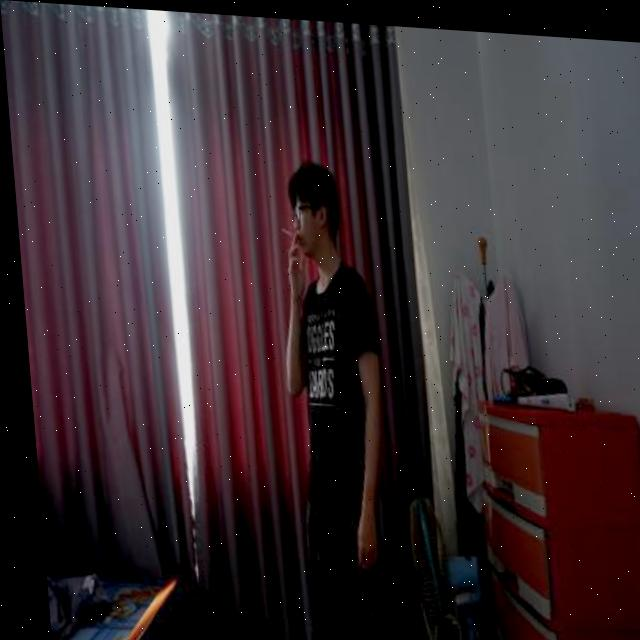cigarette: (278, 224, 292, 235)
